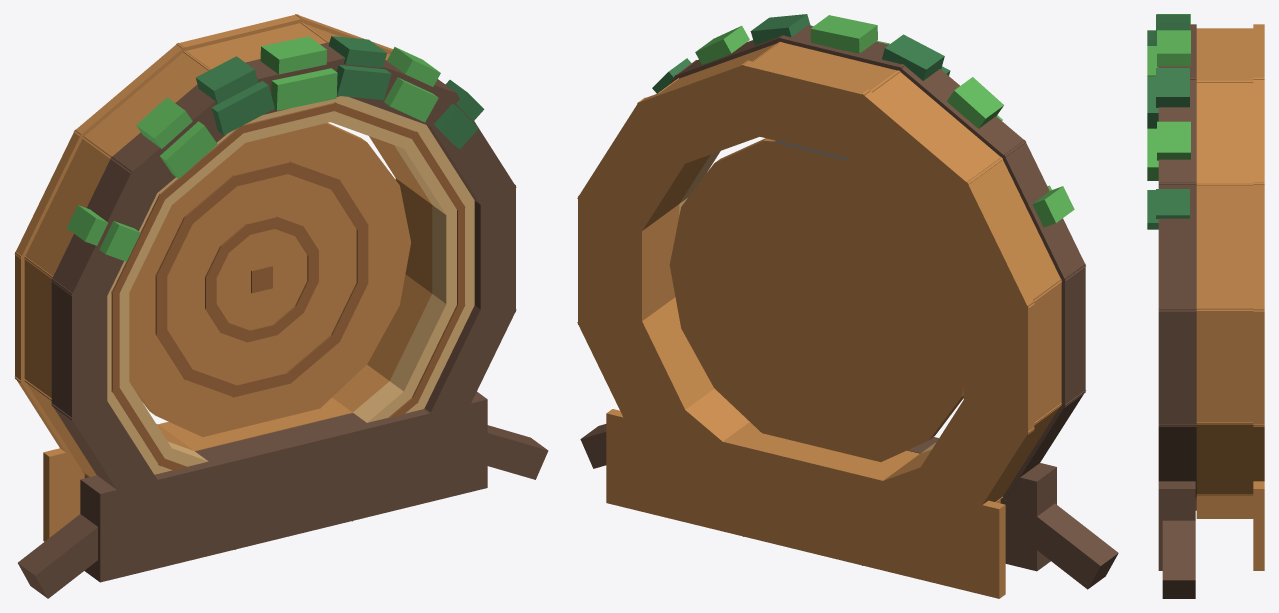
File: CatCafe_CatFlap_TreeStump.glb
3 renders of one model, left to right at view 1: azimuth 30°, elevation 25°; view 2: azimuth 150°, elevation 25°; view 3: azimuth 270°, elevation 25°, orthographic. The views are drawn at different scales.
Visible parts, largest first — view 1: CatCafe_CatFlap_TreeStump, CatCafe_CatFlap_TreeStump_Flap; view 2: CatCafe_CatFlap_TreeStump, CatCafe_CatFlap_TreeStump_Flap; view 3: CatCafe_CatFlap_TreeStump.
Part boxes in pixels (box(x1,y1,x2,y2)): CatCafe_CatFlap_TreeStump: box(14, 14, 548, 598); CatCafe_CatFlap_TreeStump_Flap: box(129, 122, 410, 436); CatCafe_CatFlap_TreeStump: box(577, 14, 1118, 598); CatCafe_CatFlap_TreeStump_Flap: box(669, 138, 963, 461); CatCafe_CatFlap_TreeStump: box(1147, 14, 1264, 598).
Bounding box in the file's own units: 2.91 × 2.64 × 0.62.
1 material, 1 textured.
